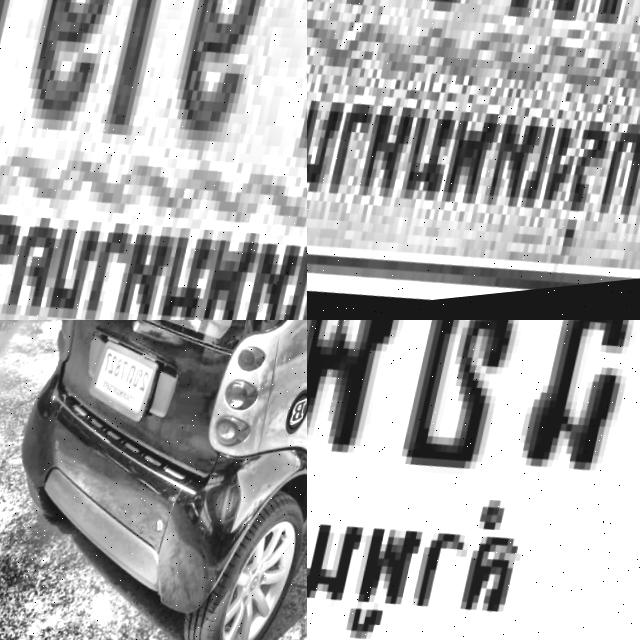license-plate: (307, 0, 640, 320), (307, 320, 640, 640), (0, 0, 307, 320), (84, 335, 170, 435)
